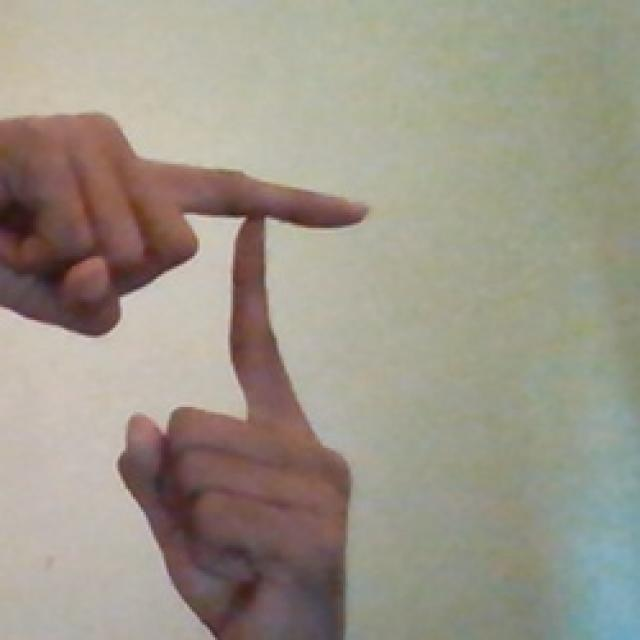Alphabet-T: (0, 123, 412, 637)
